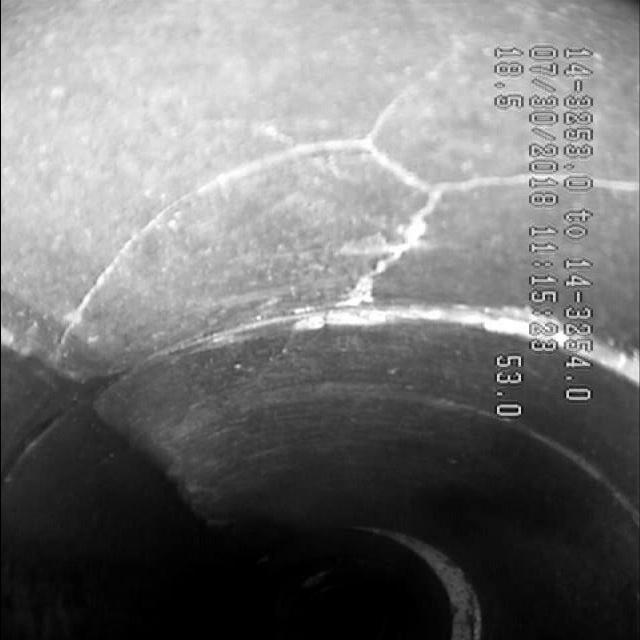Crack: (72, 91, 480, 391)
